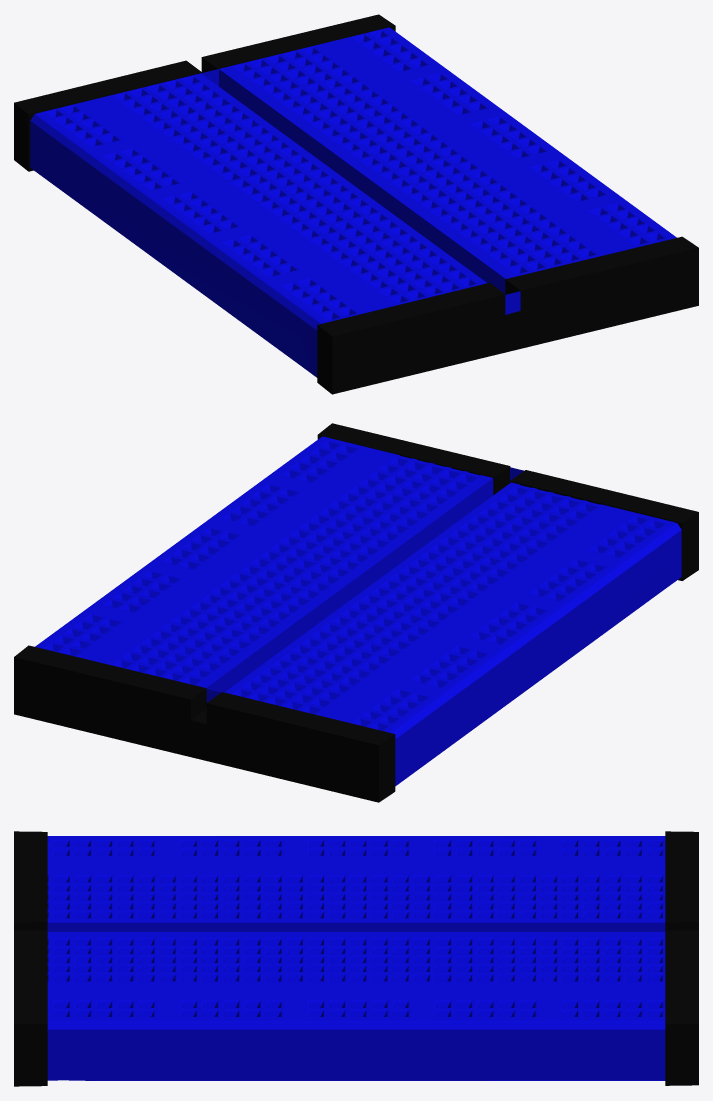
Rendered from Mini breadboard.fbx.
3 views of the same model, one above another, from view 1: azimuth 30°, elevation 25°; view 2: azimuth 150°, elevation 25°; view 3: azimuth 270°, elevation 25° (orthographic). The views are drawn at different scales.
Parts seen in each view (by area): view 1: Breadboard.001; view 2: Breadboard.001; view 3: Breadboard.001.
Boxes of the visible parts, x1,y1,x2,y2 form: Breadboard.001: (14, 14, 698, 394); Breadboard.001: (14, 423, 698, 802); Breadboard.001: (14, 831, 698, 1086).
Bounding box in the file's own units: 278 × 42.68 × 420.
